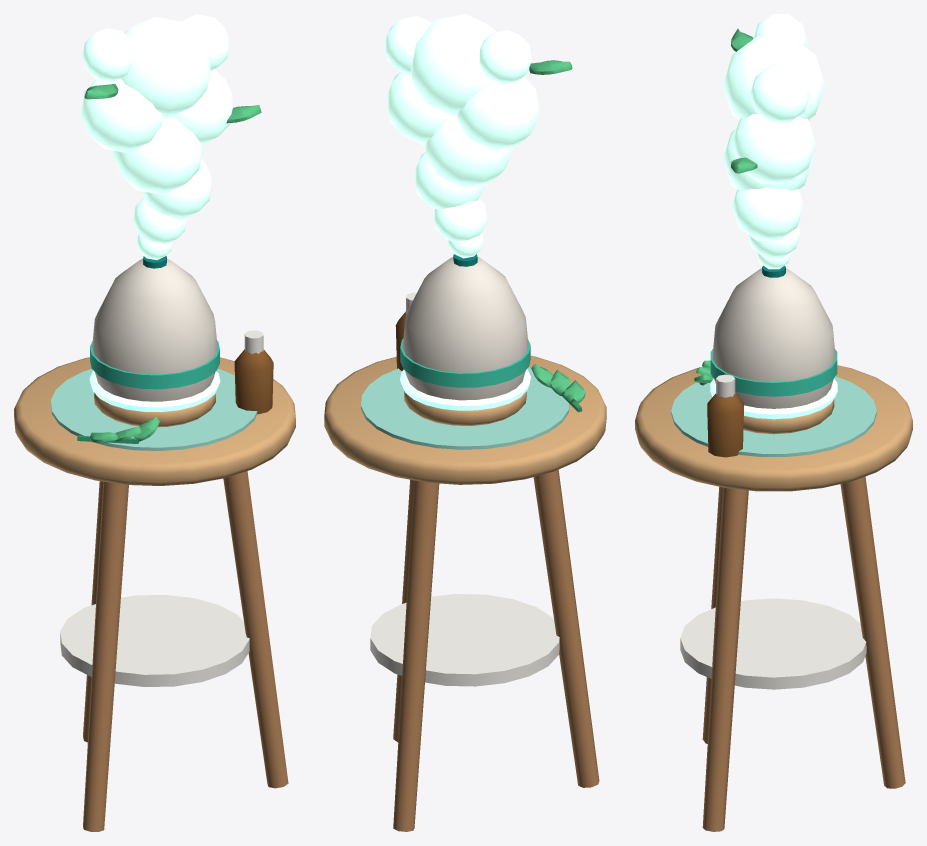
The model's file is aroma_diffuser.glb.
3 views of the same model, side by side, from view 1: azimuth 30°, elevation 25°; view 2: azimuth 150°, elevation 25°; view 3: azimuth 270°, elevation 25° (orthographic). The views are drawn at different scales.
Visible parts, largest first — view 1: AromaDiffuser; view 2: AromaDiffuser; view 3: AromaDiffuser.
Part boxes in pixels (left/top/right/bottom): AromaDiffuser: left=14, top=14, right=295, bottom=831; AromaDiffuser: left=324, top=14, right=606, bottom=831; AromaDiffuser: left=635, top=14, right=912, bottom=831.
Bounding box in the file's own units: 0.4566 × 1.37 × 0.46.
